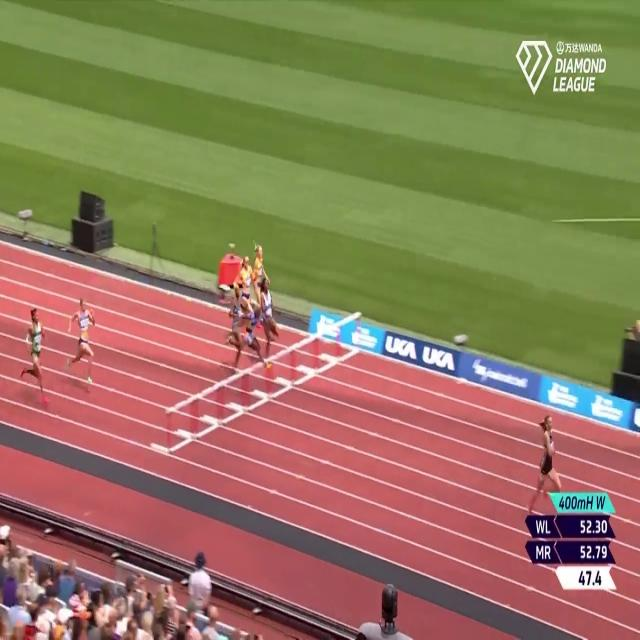athlete: (528, 399, 564, 527), (64, 291, 97, 398), (19, 303, 49, 407), (238, 304, 273, 374), (220, 276, 244, 362), (260, 269, 276, 373)
hurdle: (163, 393, 197, 460), (245, 352, 271, 422), (194, 380, 218, 444), (313, 324, 339, 381), (338, 310, 362, 368), (220, 366, 240, 434), (272, 343, 293, 402), (296, 333, 316, 388)
